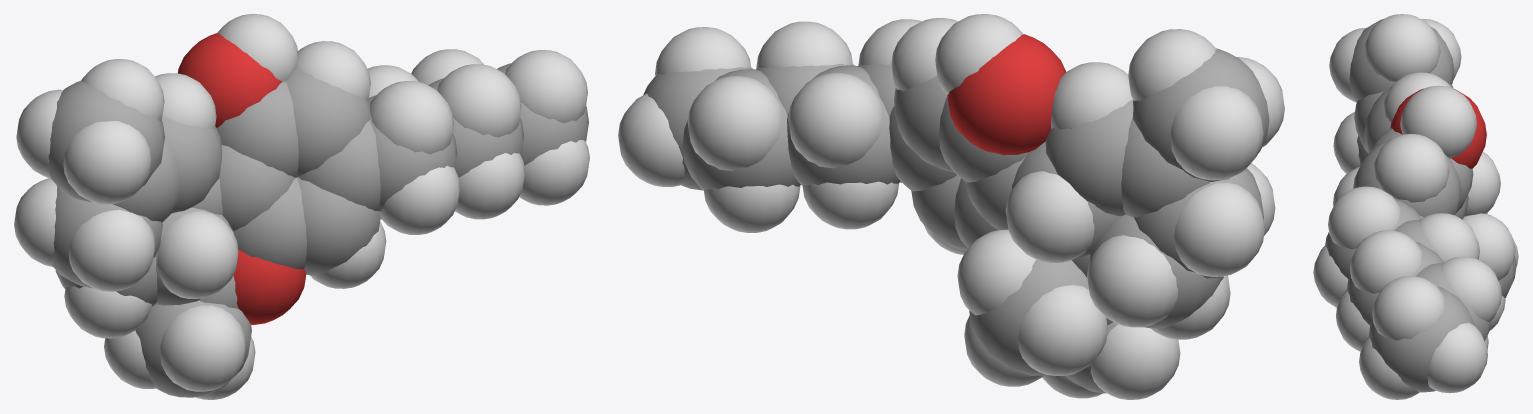
Rendered from thc-cpk.glb.
3 views of the same model, side by side, from view 1: azimuth 30°, elevation 25°; view 2: azimuth 150°, elevation 25°; view 3: azimuth 270°, elevation 25° (orthographic). The views are drawn at different scales.
Parts seen in each view (by area): view 1: thc-cpk; view 2: thc-cpk; view 3: thc-cpk.
Boxes of the visible parts, x1,y1,x2,y2 form: thc-cpk: [14, 14, 589, 399]; thc-cpk: [618, 14, 1284, 399]; thc-cpk: [1313, 14, 1518, 399].
Bounding box in the file's own units: 17.34 × 10.35 × 6.41.
